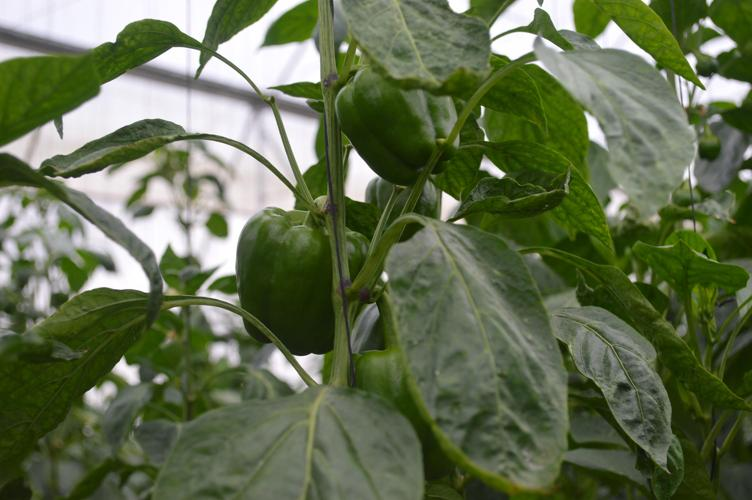BellPepper: (215, 199, 368, 356), (324, 67, 464, 188)
